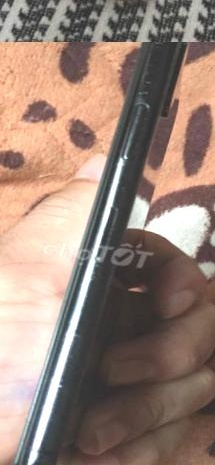scratch: (77, 248, 116, 339), (39, 335, 86, 409)
